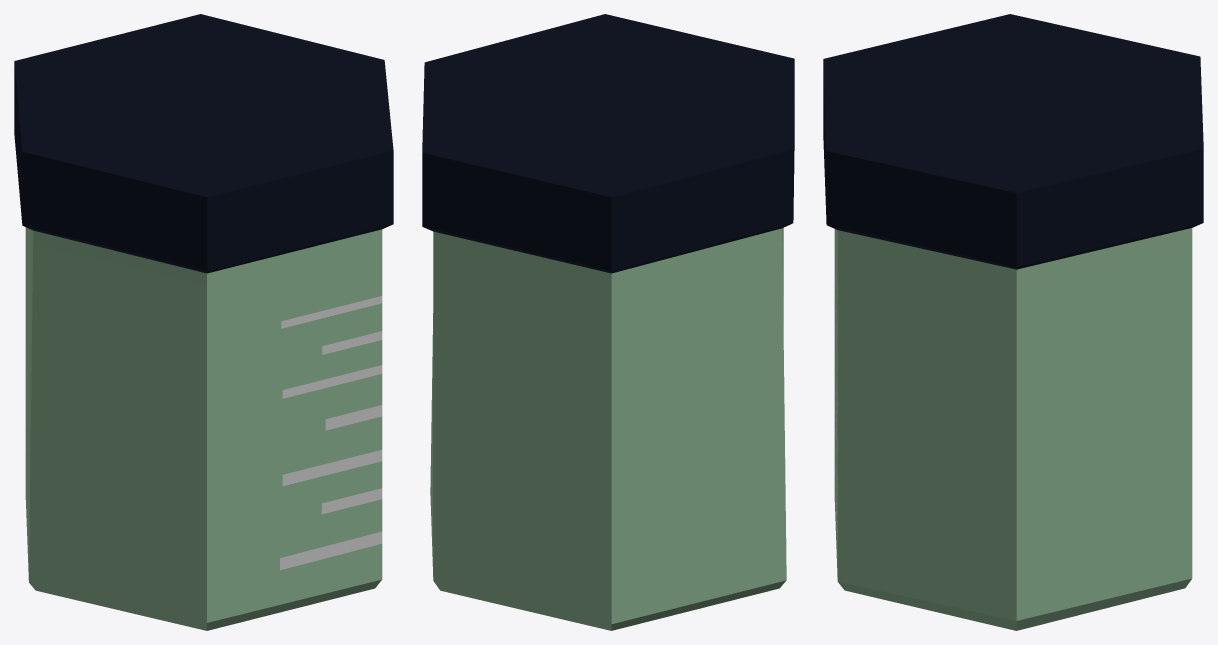
Rendered from jar.fbx.
The picture shows the model from 3 angles, left to right: view 1: azimuth 30°, elevation 25°; view 2: azimuth 150°, elevation 25°; view 3: azimuth 270°, elevation 25°; orthographic projection.
Visible parts, largest first — view 1: jar; view 2: jar; view 3: jar.
Boxes of the visible parts, x1,y1,x2,y2 form: jar: (14,14,393,630); jar: (422,14,794,630); jar: (823,14,1203,630).
Bounding box in the file's own units: 207 × 239 × 186.
